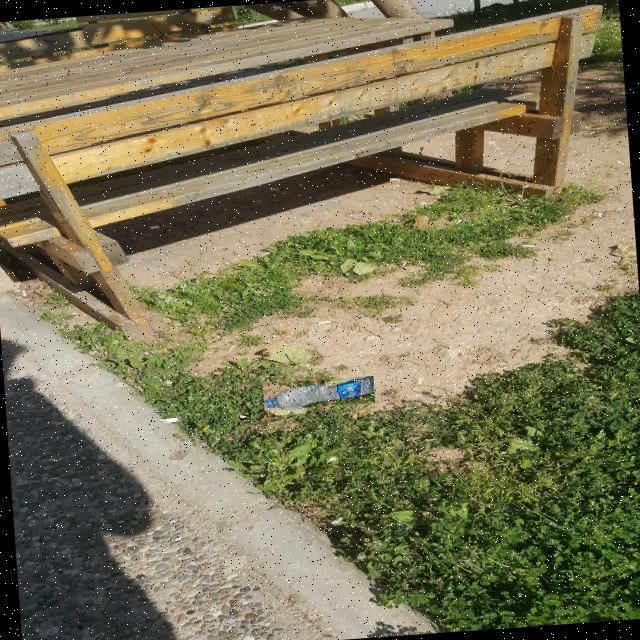Cigarette: (331, 516, 344, 524), (326, 455, 337, 464), (160, 418, 180, 421), (318, 320, 332, 324), (239, 415, 251, 419), (520, 244, 534, 247), (149, 225, 159, 229), (30, 304, 37, 309), (144, 352, 151, 356), (588, 131, 597, 134), (360, 351, 373, 353), (367, 172, 373, 176), (73, 316, 79, 320), (389, 178, 400, 180), (403, 261, 407, 266), (599, 212, 604, 216), (270, 189, 279, 191), (596, 108, 602, 110), (23, 291, 26, 295), (252, 201, 263, 202), (496, 147, 501, 149), (299, 183, 302, 186), (487, 142, 489, 142)
Clear plastic bottle: (264, 376, 373, 409)
Unlabeled litter: (455, 220, 462, 221)
